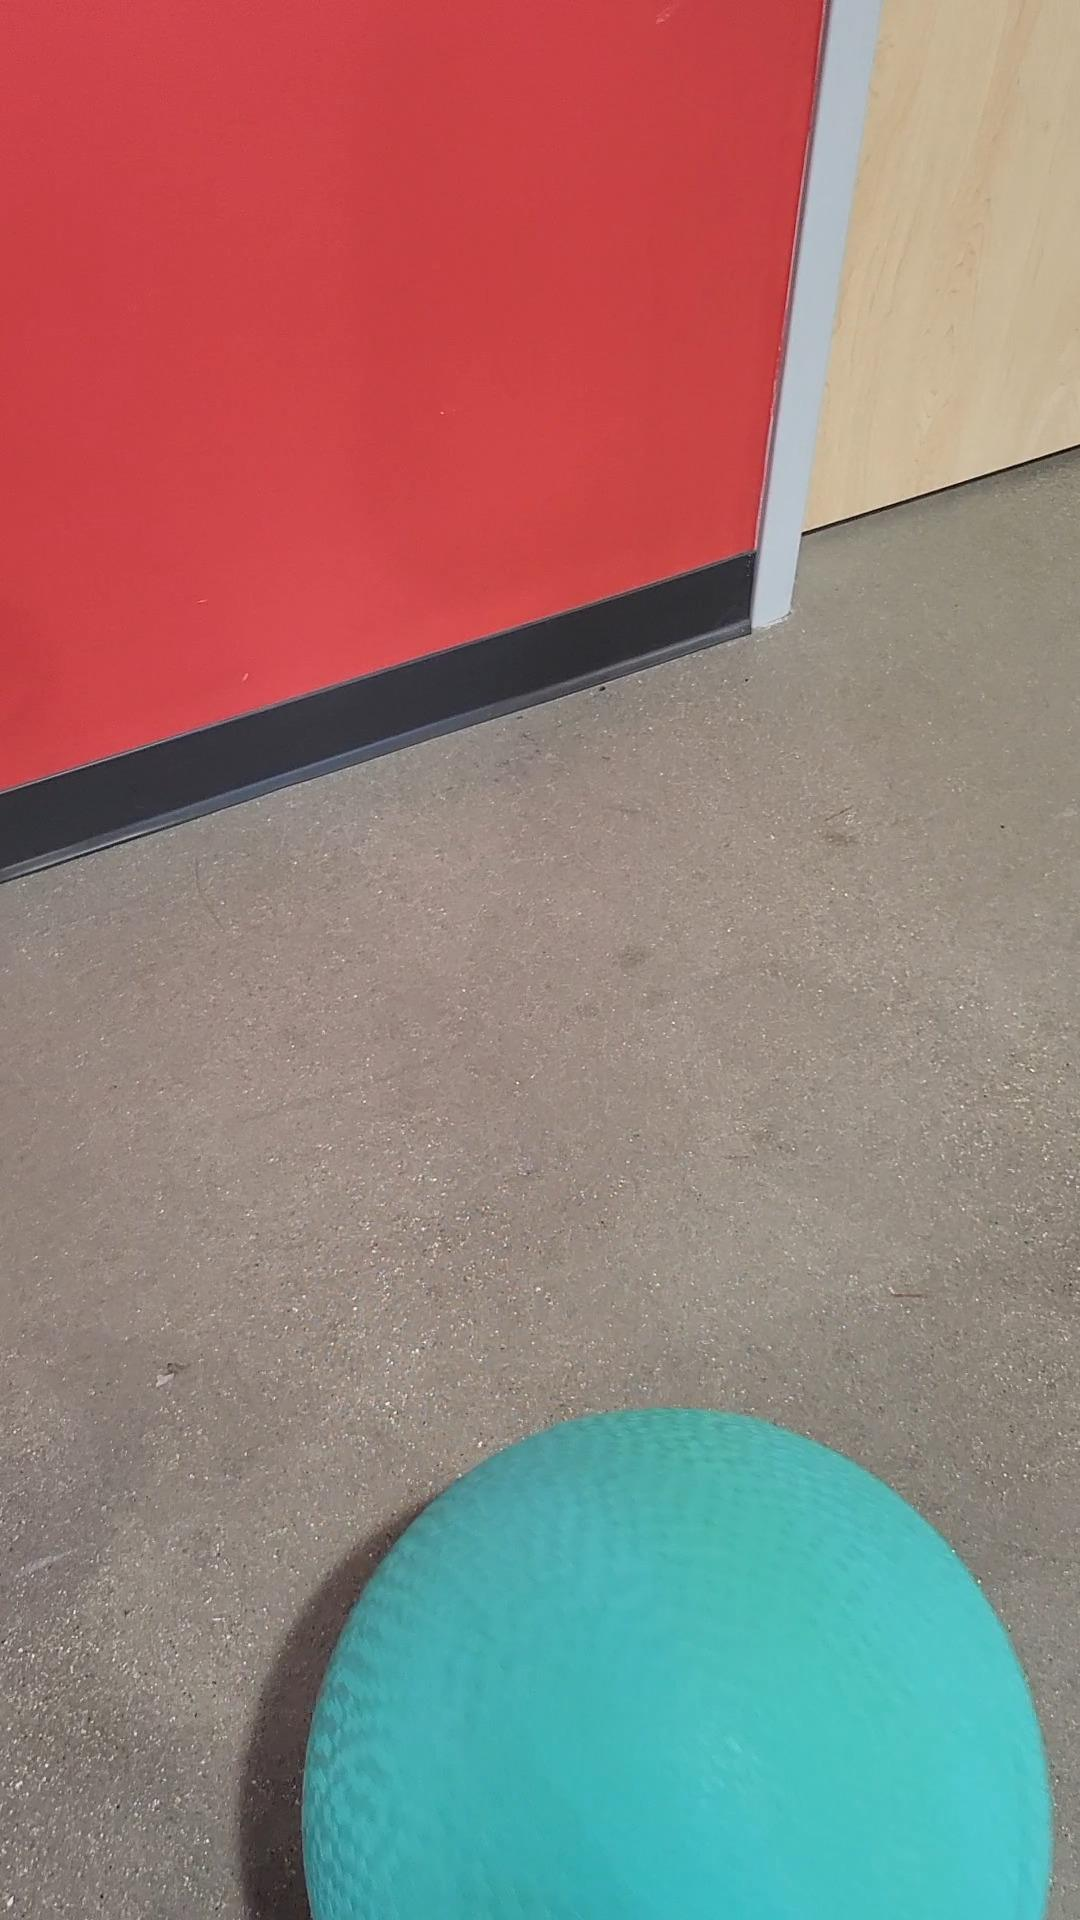algae: (311, 1406, 1044, 1920)
